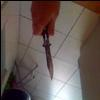melee: (32, 9, 58, 80)
